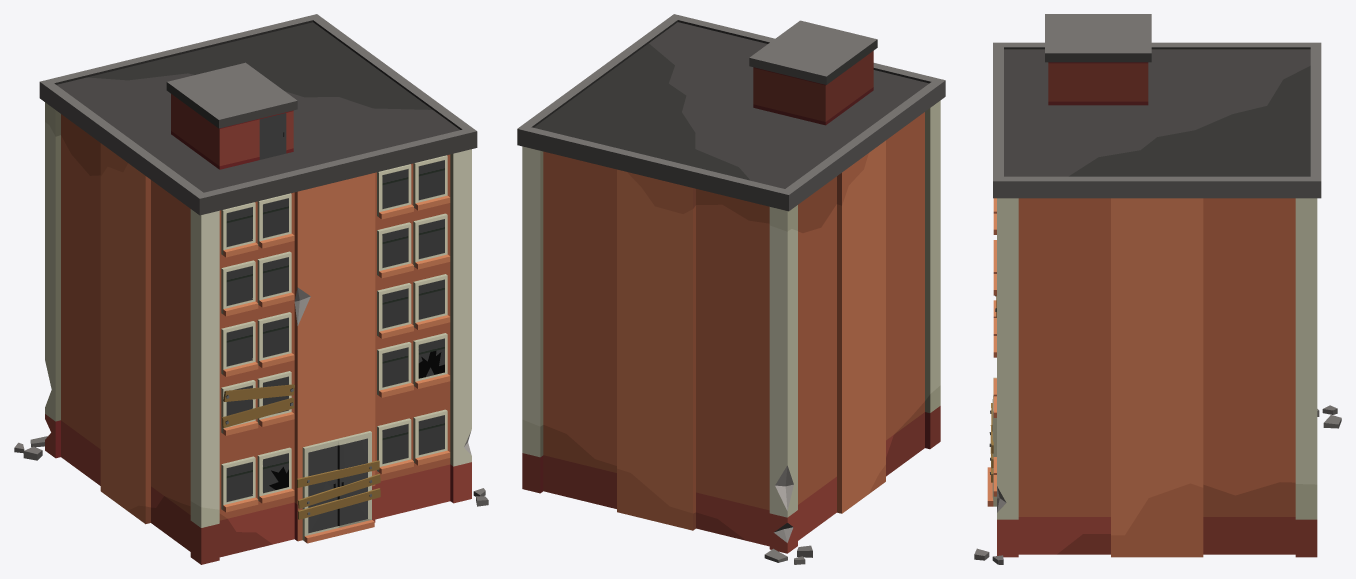
File: SA_Bld_Apartment_Damaged_01.glb
3 views of the same model, side by side, from view 1: azimuth 30°, elevation 25°; view 2: azimuth 150°, elevation 25°; view 3: azimuth 270°, elevation 25° (orthographic). The views are drawn at different scales.
Visible parts, largest first — view 1: SA_Bld_Apartment_Damaged_01; view 2: SA_Bld_Apartment_Damaged_01; view 3: SA_Bld_Apartment_Damaged_01.
Part boxes in pixels (x1=…): SA_Bld_Apartment_Damaged_01: x1=14, y1=14, x2=488, y2=564; SA_Bld_Apartment_Damaged_01: x1=517, y1=14, x2=945, y2=564; SA_Bld_Apartment_Damaged_01: x1=974, y1=14, x2=1341, y2=564.
Bounding box in the file's own units: 6.21 × 8 × 6.22.
1 material, 1 textured.
